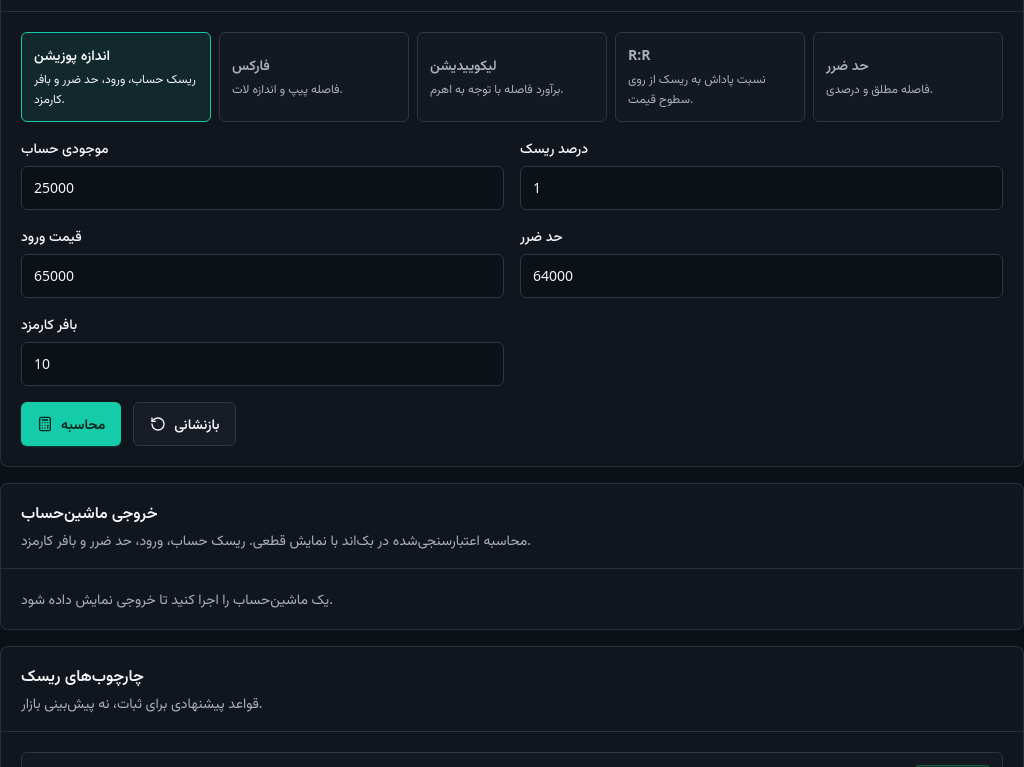
RiskScreen explains a rejected calculation › names the rejected field in Persian for other validation failures
(page scrolled)
Click the button "محاسبه" at (71, 424), box [21,402,121,446]
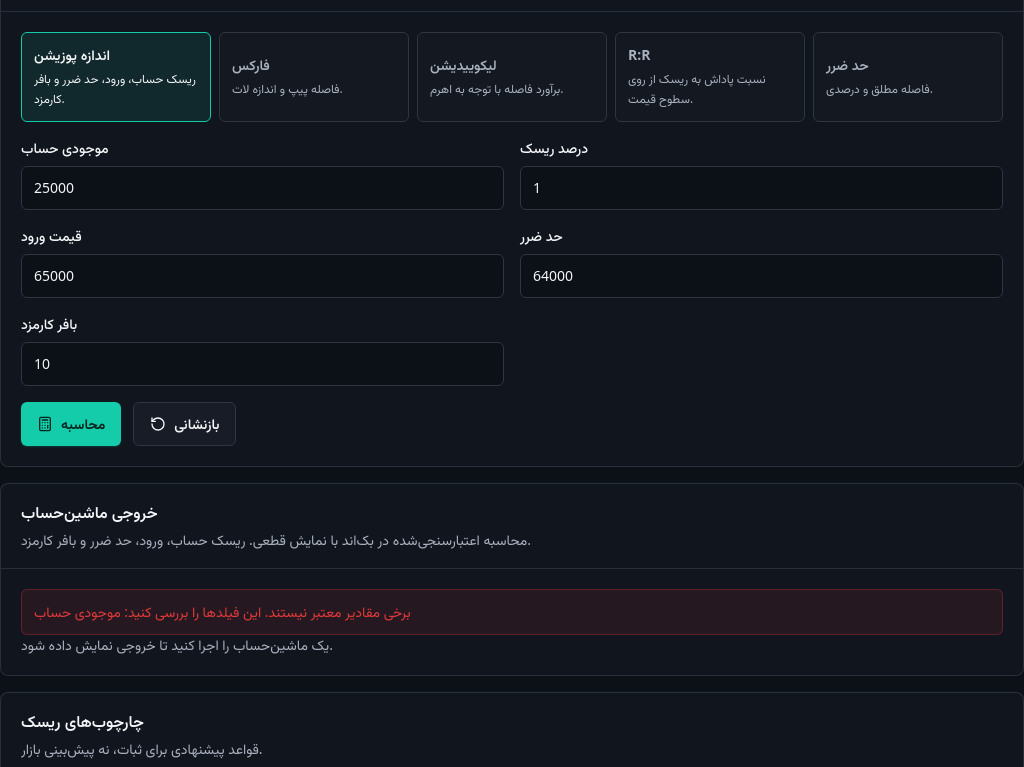
Result: the message shows "موجودی حساب" at [34,602,411,621]
